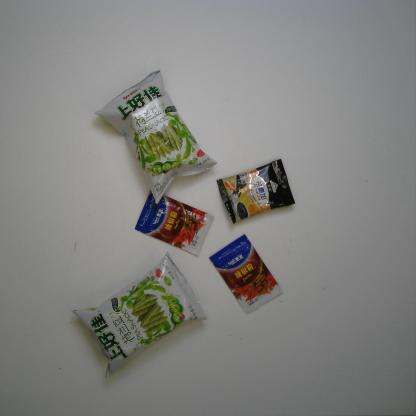Instant Drink: (215, 155, 295, 228)
Puffed Food: (70, 252, 210, 380), (93, 69, 221, 204)
Seasoner: (207, 231, 285, 315), (132, 187, 217, 258)
